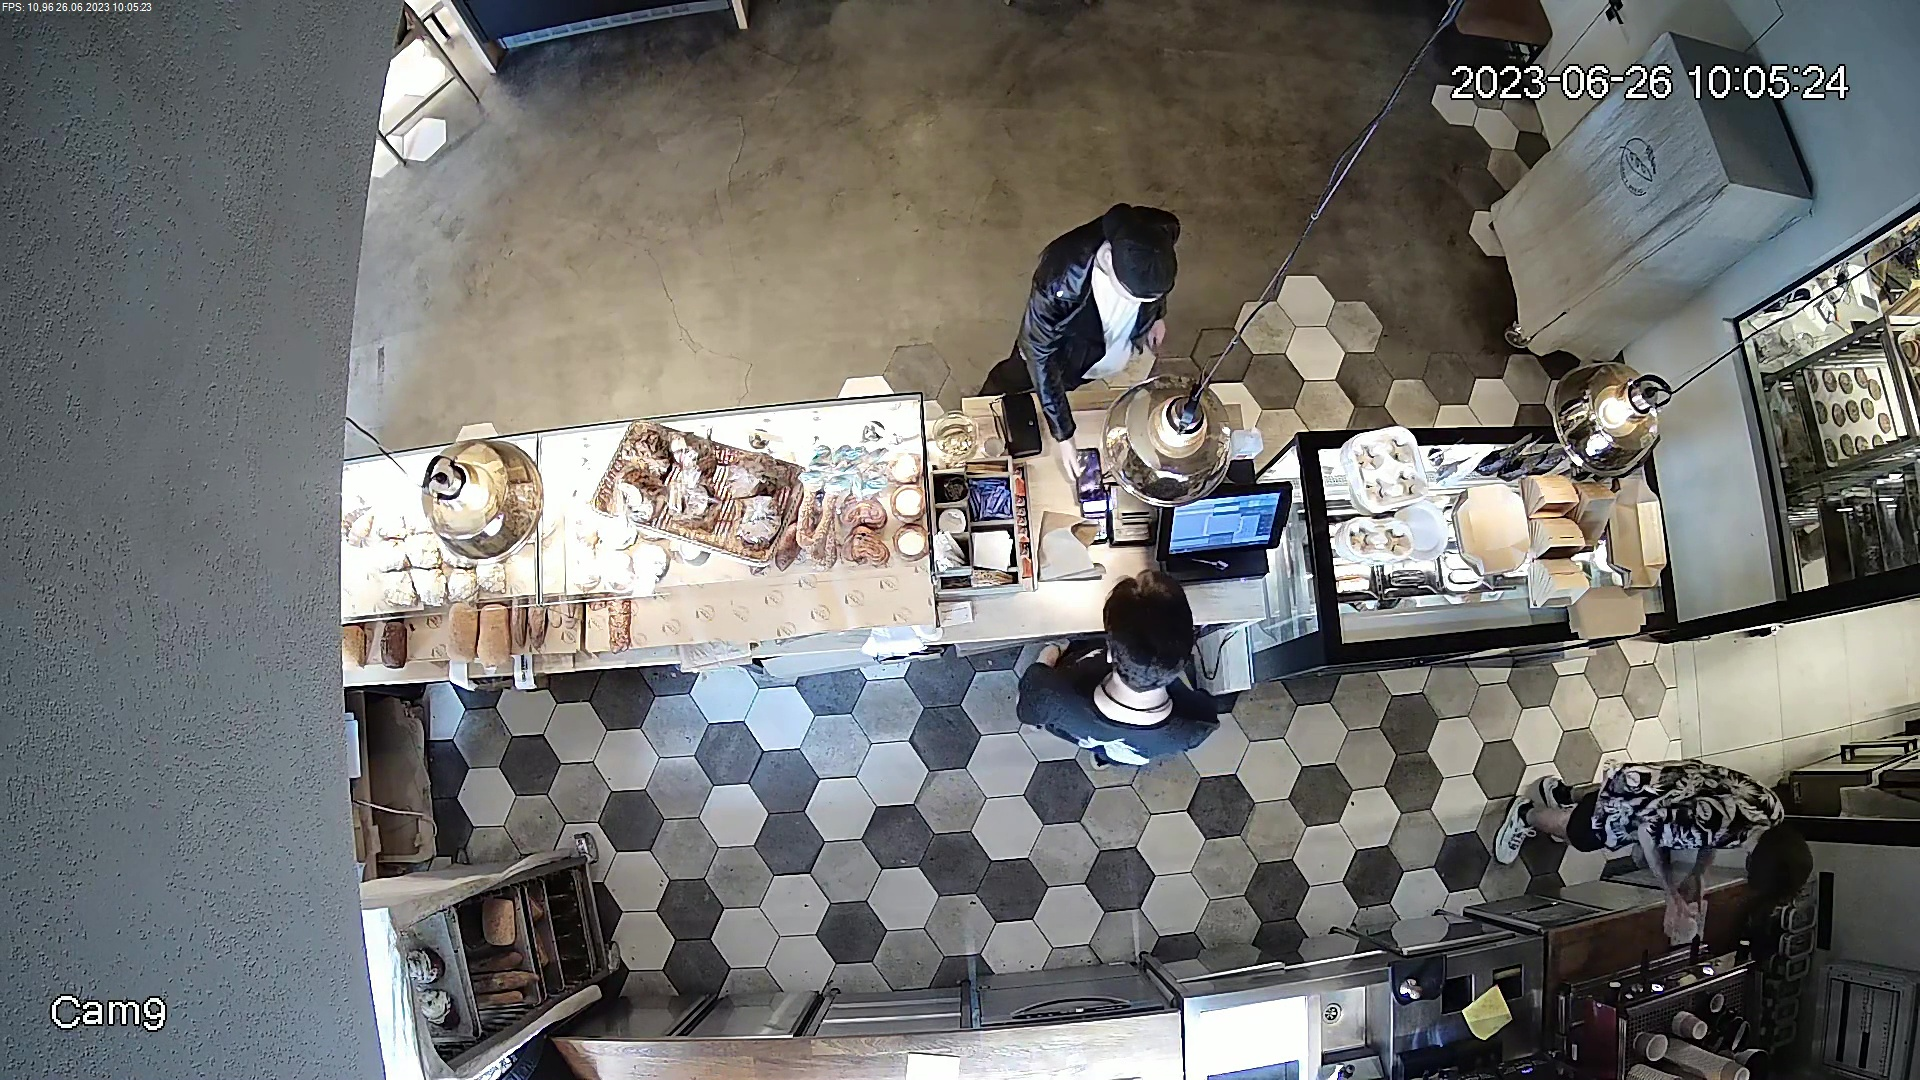pack: (1032, 509, 1105, 580)
person: (995, 184, 1195, 429)
terminal: (1064, 440, 1110, 543)
